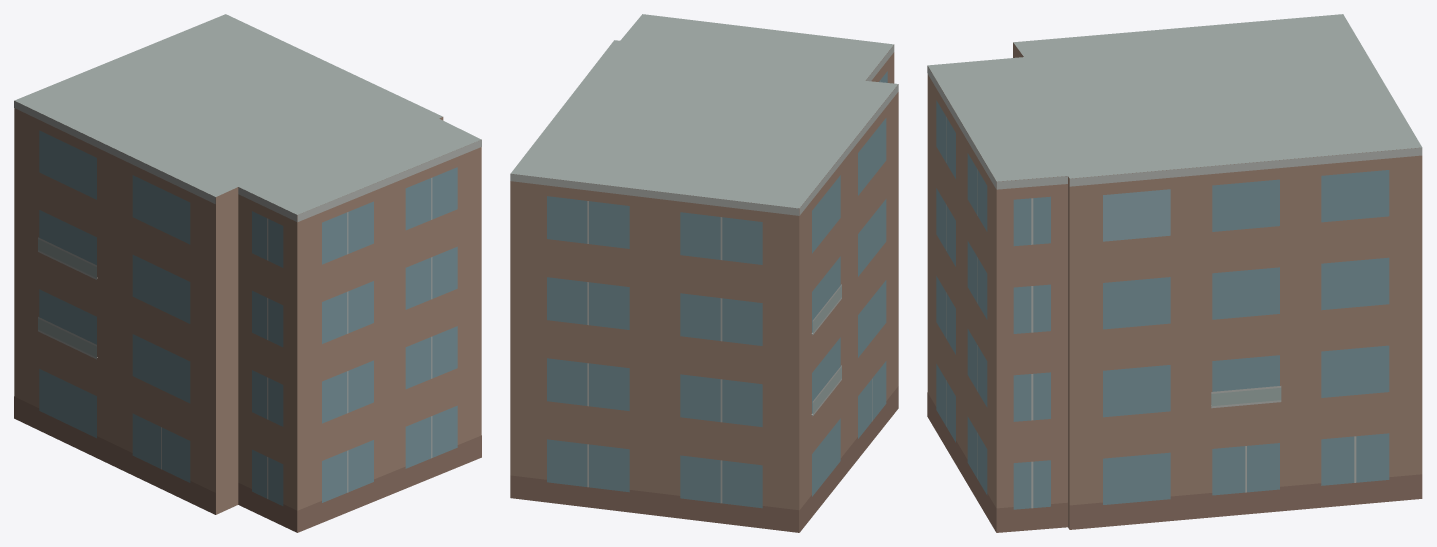
The model's file is survey-upis-32990265.glb.
3 views of the same model, side by side, from view 1: azimuth 30°, elevation 25°; view 2: azimuth 150°, elevation 25°; view 3: azimuth 270°, elevation 25° (orthographic). The views are drawn at different scales.
Parts seen in each view (by area): view 1: survey-upis-32990265.tmp; view 2: survey-upis-32990265.tmp; view 3: survey-upis-32990265.tmp.
Part boxes in pixels (x1=…): survey-upis-32990265.tmp: x1=14, y1=14, x2=481, y2=532; survey-upis-32990265.tmp: x1=510, y1=14, x2=898, y2=532; survey-upis-32990265.tmp: x1=927, y1=14, x2=1422, y2=532.
Size of the model in its own units: 10.9 by 10.65 by 13.61.
